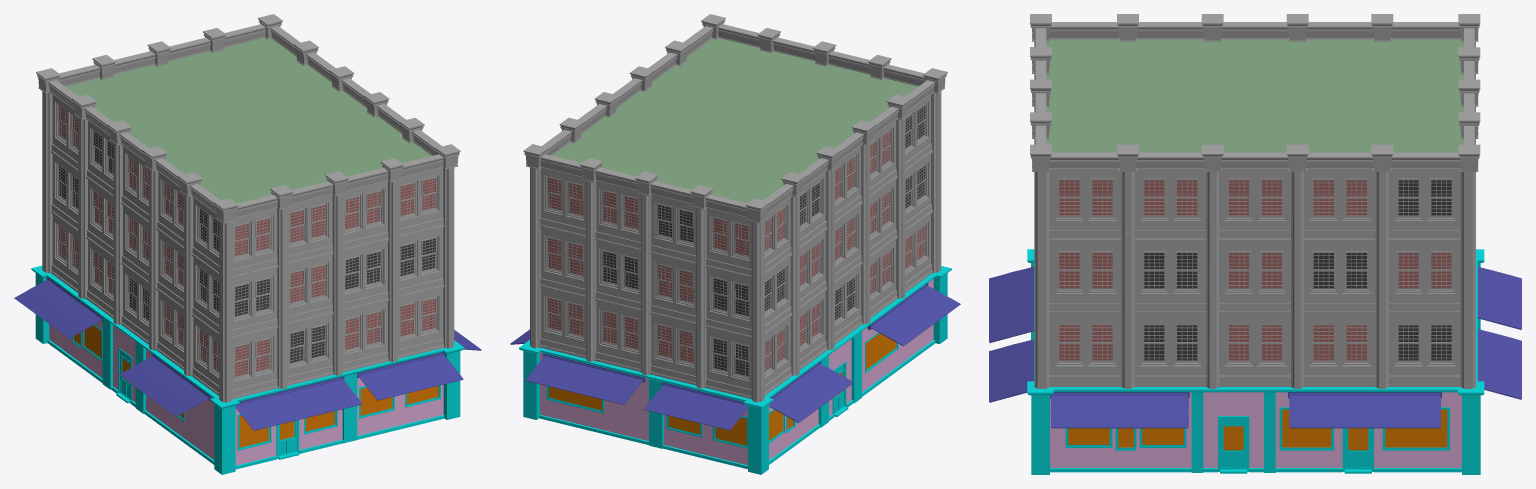
The model's file is SM_Building_02.fbx.
The picture shows the model from 3 angles, left to right: view 1: azimuth 30°, elevation 25°; view 2: azimuth 150°, elevation 25°; view 3: azimuth 270°, elevation 25°; orthographic projection. The views are drawn at different scales.
Parts seen in each view (by area): view 1: SM_Building_02; view 2: SM_Building_02; view 3: SM_Building_02.
Part boxes in pixels (box(x1,y1,x2,y2)): SM_Building_02: box(14, 14, 481, 474); SM_Building_02: box(510, 14, 960, 474); SM_Building_02: box(989, 14, 1521, 474).
Bounding box in the file's own units: 1520 × 1300 × 1956.
